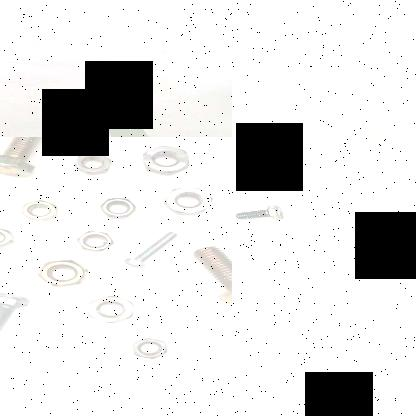Bolts: (118, 227, 186, 271), (190, 246, 232, 304), (0, 137, 52, 175), (0, 283, 35, 337), (232, 199, 287, 227), (84, 81, 128, 112)
NUTS: (134, 139, 192, 177), (36, 258, 96, 292), (158, 182, 216, 214), (82, 294, 138, 324), (68, 148, 112, 176), (74, 229, 120, 255), (127, 335, 171, 361), (98, 196, 144, 218), (19, 198, 63, 220), (0, 221, 17, 253)
